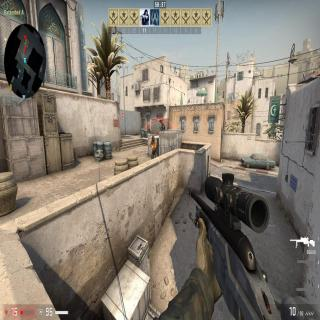T-Body: (150, 135, 158, 159)
T-Head: (152, 136, 155, 142), (160, 118, 163, 121)
